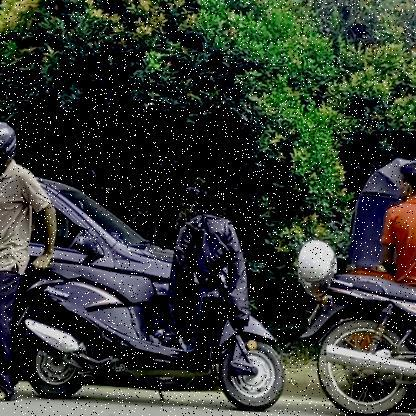motorcycle: (10, 214, 291, 416), (295, 211, 416, 416)
